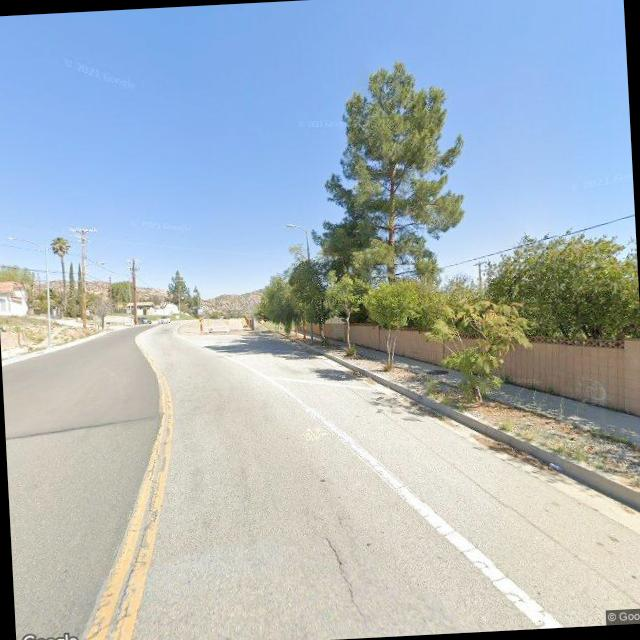pothole: (318, 522, 370, 632)
